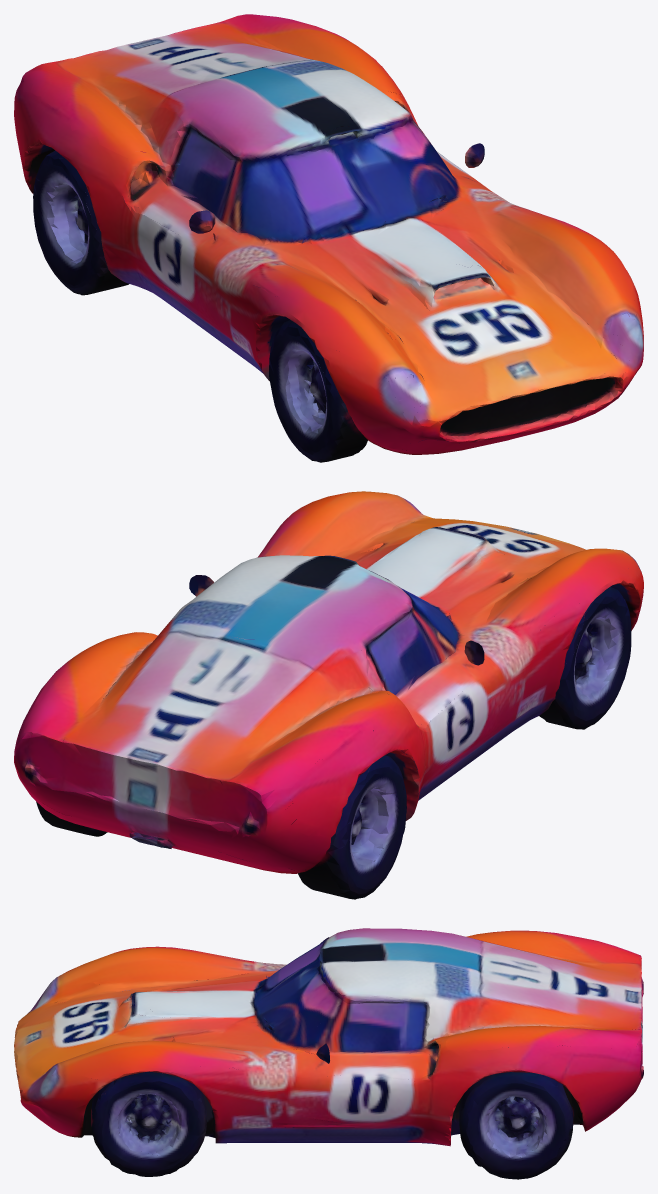
The model's file is classiclemans1.glb.
3 views of the same model, one above another, from view 1: azimuth 30°, elevation 25°; view 2: azimuth 150°, elevation 25°; view 3: azimuth 270°, elevation 25° (orthographic). The views are drawn at different scales.
Parts seen in each view (by area): view 1: body, wheel_front_L, wheel_rear_L, wheel_front_R; view 2: body, wheel_front_L, wheel_rear_L, wheel_rear_R; view 3: body, wheel_front_R, wheel_rear_R.
Part boxes in pixels (x1,y1,x2,y2): body: (14,14,637,454); wheel_front_L: (256,317,456,462); wheel_rear_L: (23,145,156,295); wheel_front_R: (587,272,643,405); body: (14,491,639,897); wheel_front_L: (539,558,643,729); wheel_rear_L: (291,752,419,899); wheel_rear_R: (36,692,108,836); body: (14,928,643,1179); wheel_front_R: (19,1066,331,1176); wheel_rear_R: (445,1081,588,1178).
Bounding box in the file's own units: 1.88 × 1.19 × 4.
1 material, 1 textured.
